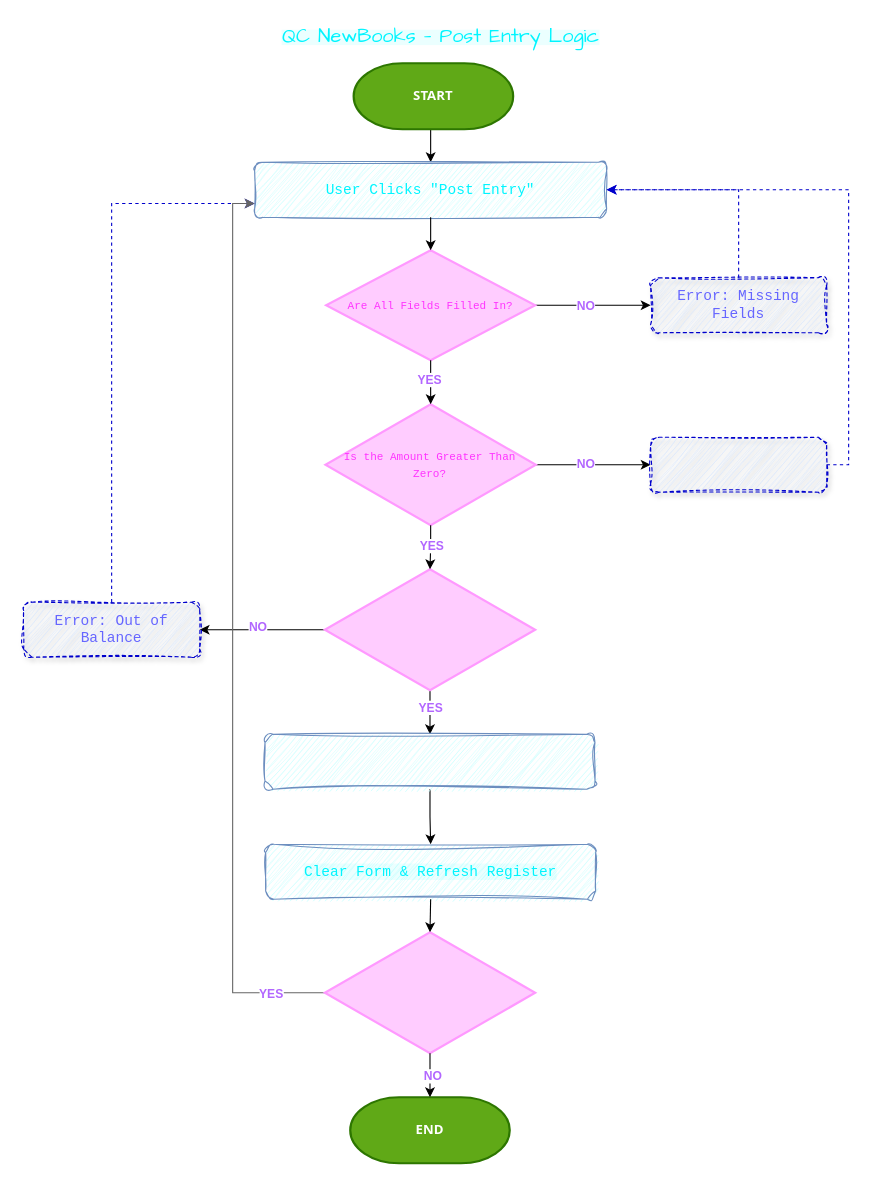
This 877x1183 diagram has some shape labels left out. The shapes that lost their labels are listed below. From the top down, each one's centre as x and y in pixels, then its label:
At pixel 739 466: "Error: Invalid Amount".
At pixel 429 629: "Do Total Debits Equal Total Credits?".
At pixel 429 761: "Save Entry to Database".
At pixel 429 992: "Post Another Entry?".
